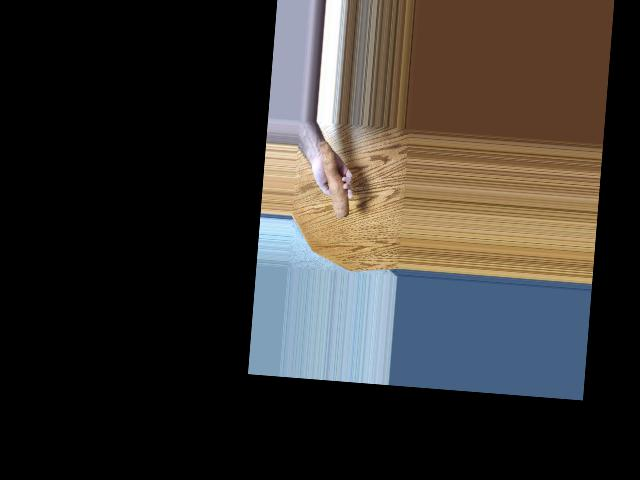sweet_potato: (313, 142, 355, 219)
